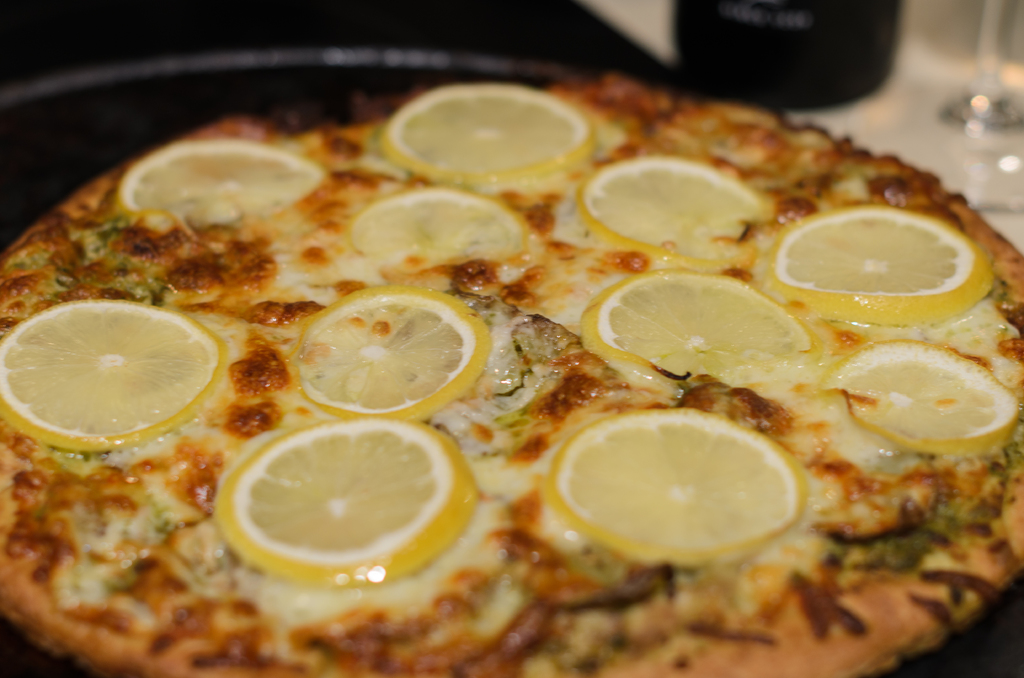Pizza: (0, 72, 1024, 678)
